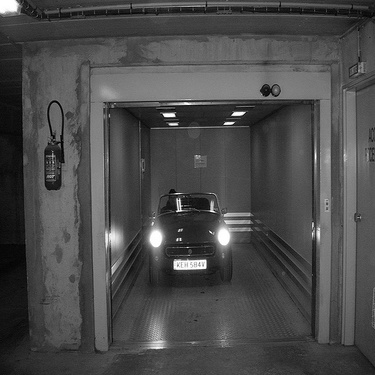car: (141, 185, 234, 287)
